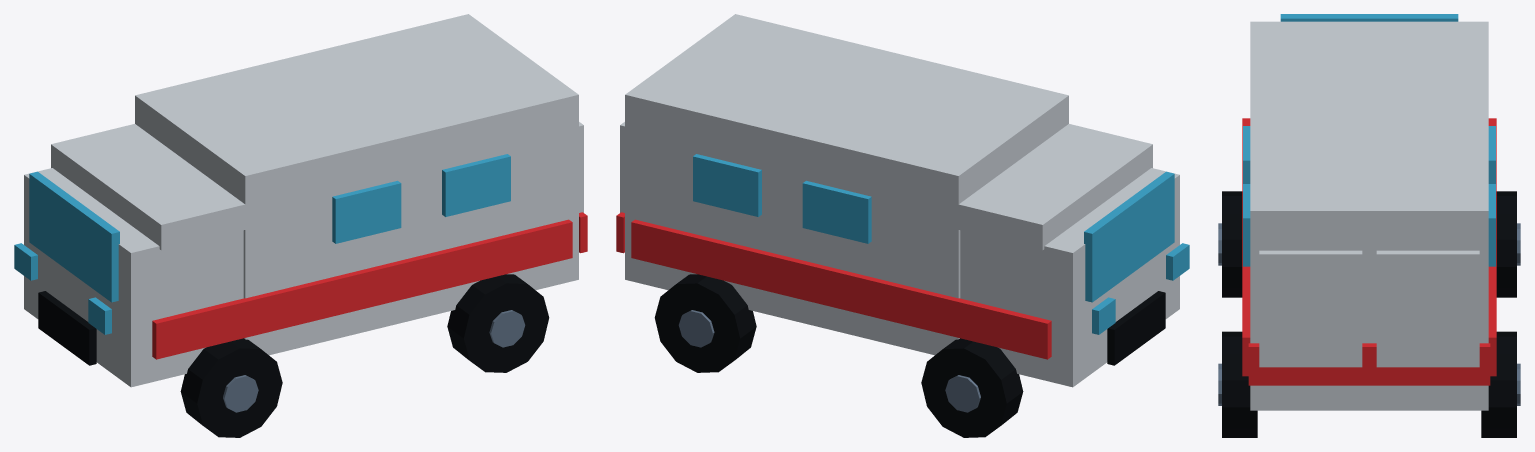
Rendered from ambulance.obj.
3 views of the same model, side by side, from view 1: azimuth 30°, elevation 25°; view 2: azimuth 150°, elevation 25°; view 3: azimuth 270°, elevation 25° (orthographic). The views are drawn at different scales.
Visible parts, largest first — view 1: Patient compartment, Cab, Red side livery, Cab roof, Wheel, Windshield, Patient window, Grille, Wheel hub, Headlamp; view 2: Patient compartment, Cab, Red side livery, Cab roof, Wheel, Windshield, Patient window, Grille, Wheel hub, Headlamp; view 3: Patient compartment, Rear door, Wheel, Rear red livery, Cab roof, Red side livery, Patient window, Windshield, Wheel hub.
Boxes of the visible parts, left/top/right/bottom form: Patient compartment: left=135, top=14, right=578, bottom=355; Cab: left=24, top=168, right=243, bottom=387; Red side livery: left=152, top=219, right=572, bottom=359; Cab roof: left=51, top=124, right=319, bottom=250; Wheel: left=180, top=274, right=549, bottom=437; Windshield: left=29, top=171, right=119, bottom=302; Patient window: left=332, top=154, right=510, bottom=243; Grille: left=38, top=291, right=96, bottom=365; Wheel hub: left=223, top=310, right=525, bottom=412; Headlamp: left=14, top=243, right=111, bottom=334; Patient compartment: left=625, top=14, right=1068, bottom=355; Cab: left=960, top=168, right=1179, bottom=387; Red side livery: left=631, top=219, right=1051, bottom=359; Cab roof: left=887, top=124, right=1152, bottom=250; Wheel: left=654, top=274, right=1023, bottom=437; Windshield: left=1084, top=171, right=1174, bottom=302; Patient window: left=693, top=154, right=871, bottom=243; Grille: left=1107, top=291, right=1165, bottom=365; Wheel hub: left=678, top=310, right=980, bottom=412; Headlamp: left=1092, top=243, right=1189, bottom=334; Patient compartment: left=1250, top=35, right=1488, bottom=410; Rear door: left=1259, top=250, right=1479, bottom=367; Wheel: left=1222, top=191, right=1516, bottom=437; Rear red livery: left=1248, top=343, right=1490, bottom=385; Cab roof: left=1250, top=21, right=1488, bottom=35; Red side livery: left=1242, top=118, right=1496, bottom=376; Patient window: left=1243, top=126, right=1495, bottom=266; Windshield: left=1280, top=14, right=1458, bottom=21; Wheel hub: left=1218, top=223, right=1520, bottom=405.
Size of the model in its own units: 3.32 by 1.66 by 1.7.
